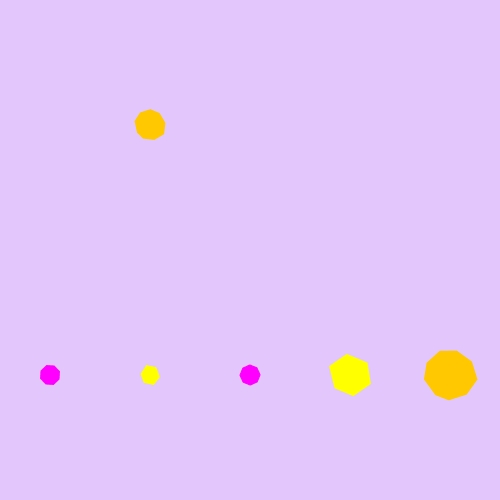hexagon: (324, 353, 376, 397), (135, 362, 165, 388)
nonagon: (420, 347, 480, 404), (130, 106, 170, 144)
octagon: (35, 360, 65, 390), (235, 360, 265, 390)
